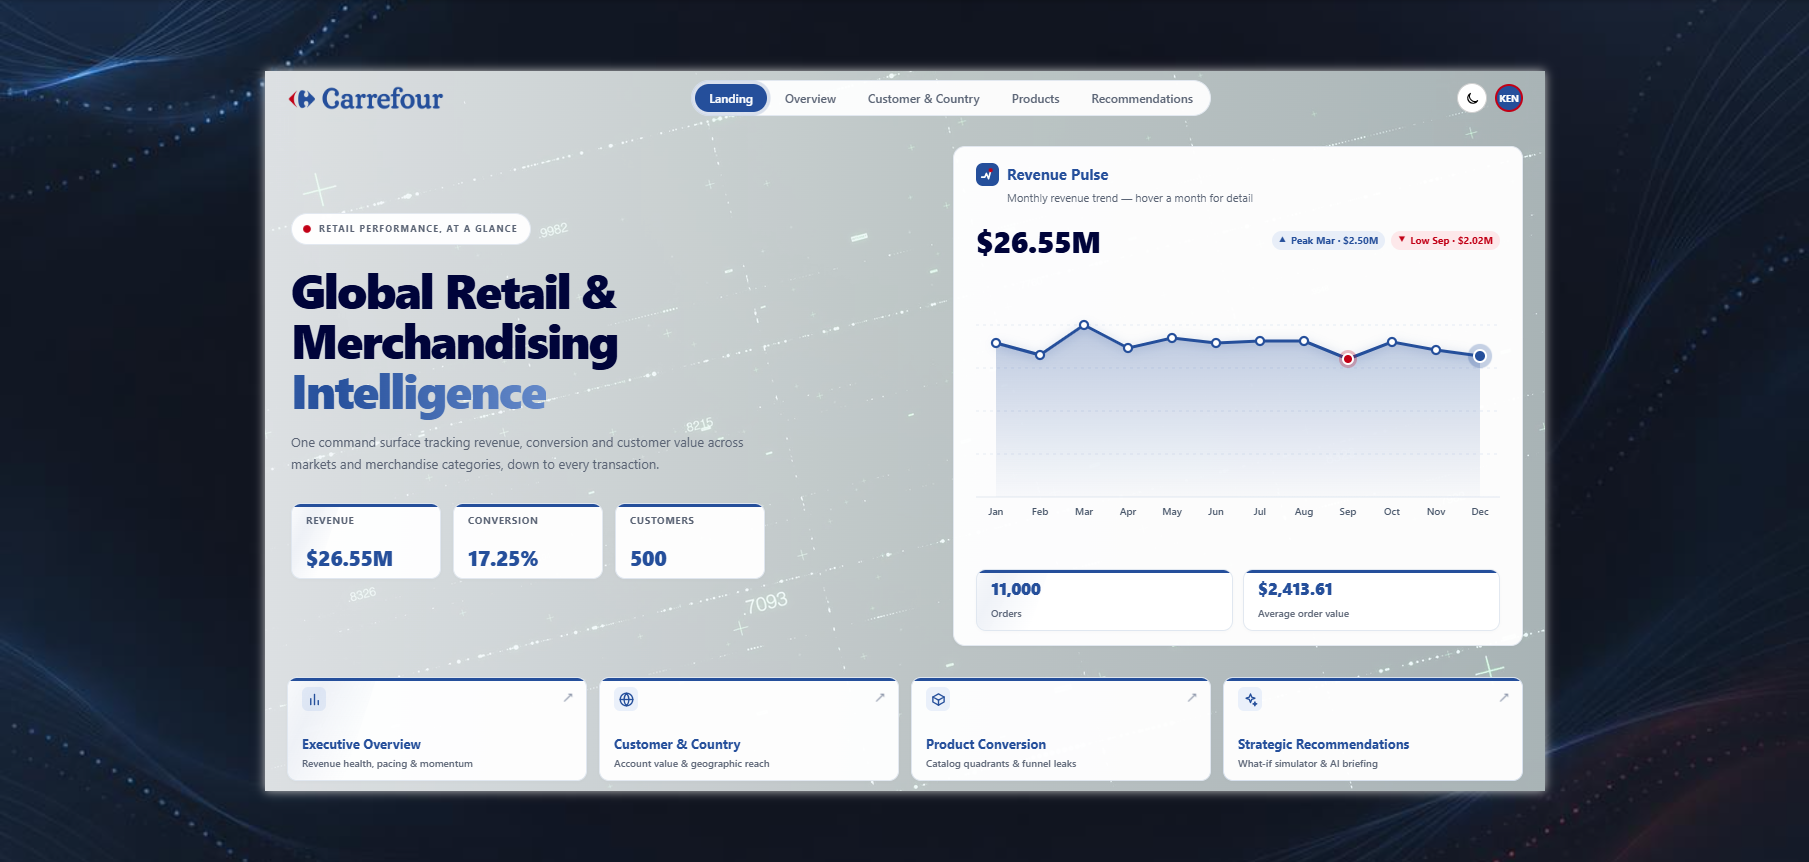

What the dashboard file says about the page in this screenshot:
{"tool":"powerbi","page":{"name":"Landing Page","canvas":[1280,720],"ordinal":0},"visuals":[{"type":"htmlContent443BE3AD55E043BF878BED274D3A6855","fields":{"content":["HTML_Visuals.Landing_Page"]},"box":[0,0,1280,720],"z":0},{"type":"actionButton","title":"Overview","box":[515,15,60,24],"z":1},{"type":"actionButton","title":"Customer & Country","box":[600,15,120,24],"z":4},{"type":"actionButton","title":"Products","box":[740,15,60,24],"z":5},{"type":"actionButton","title":"Recommendations","box":[820,15,115,24],"z":6}]}

Visuals, with their boxes on the page's 1280x720 design canvas (x1, y1, x2, y2). These are canvas units, not pixel positions in the 1809x862 screenshot, which may show the page scaled, cropped or inside an application window:
htmlContent443BE3AD55E043BF878BED274D3A6855 - HTML_Visuals.Landing_Page: {"left": 0, "top": 0, "right": 1280, "bottom": 720}
"Overview" actionButton: {"left": 515, "top": 15, "right": 575, "bottom": 39}
"Customer & Country" actionButton: {"left": 600, "top": 15, "right": 720, "bottom": 39}
"Products" actionButton: {"left": 740, "top": 15, "right": 800, "bottom": 39}
"Recommendations" actionButton: {"left": 820, "top": 15, "right": 935, "bottom": 39}
